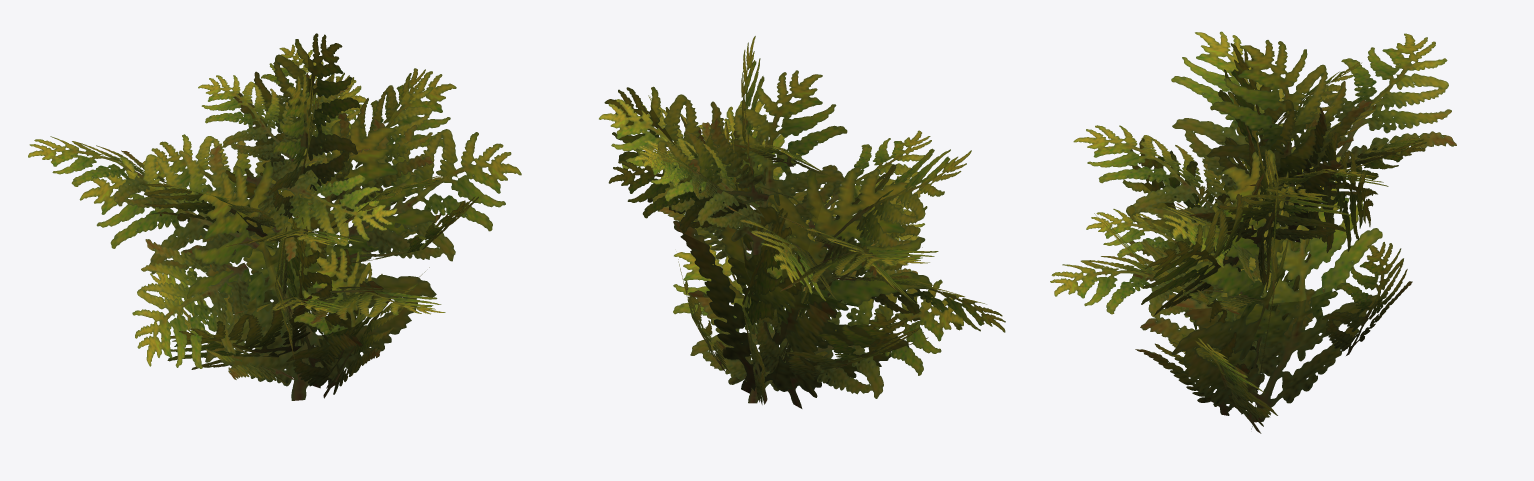
The model's file is wm_灌木大灌木03.fbx.
3 renders of one model, left to right at view 1: azimuth 30°, elevation 25°; view 2: azimuth 150°, elevation 25°; view 3: azimuth 270°, elevation 25°, orthographic. The views are drawn at different scales.
Parts seen in each view (by area): view 1: wm_灌木大灌木03; view 2: wm_灌木大灌木03; view 3: wm_灌木大灌木03.
Part boxes in pixels (x1,y1,x2,y2): wm_灌木大灌木03: (28,33,521,400); wm_灌木大灌木03: (599,36,1005,408); wm_灌木大灌木03: (1050,31,1456,433).
Bounding box in the file's own units: 217 × 187 × 188.
